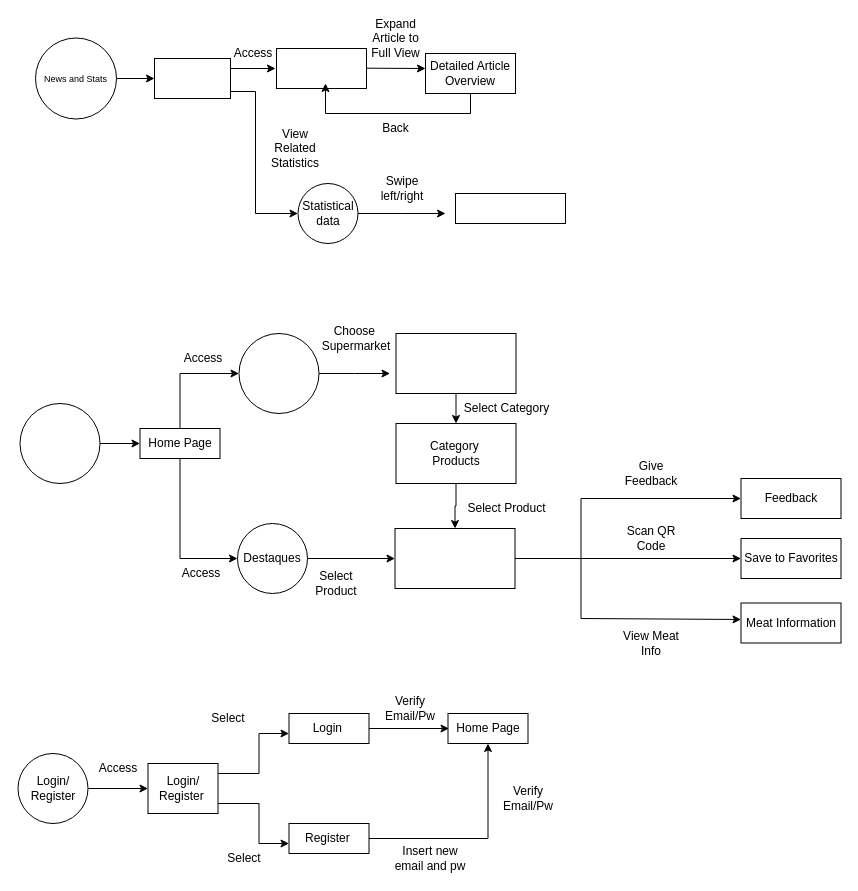
Some shapes in this 858 by 891 pixel diagram are drawn without their labels. Here are the shapes that lost their labels. From the top down, the box of each, then its label:
(154, 58, 230, 98): News Feed
(276, 48, 366, 88): List of Article Previews
(454, 192, 566, 224): Positive/ Negative statistical data
(238, 332, 319, 414): Supermarket Search
(395, 332, 516, 394): Categories List
(19, 402, 100, 484): Meat Search
(394, 528, 515, 588): Product Details Overview
